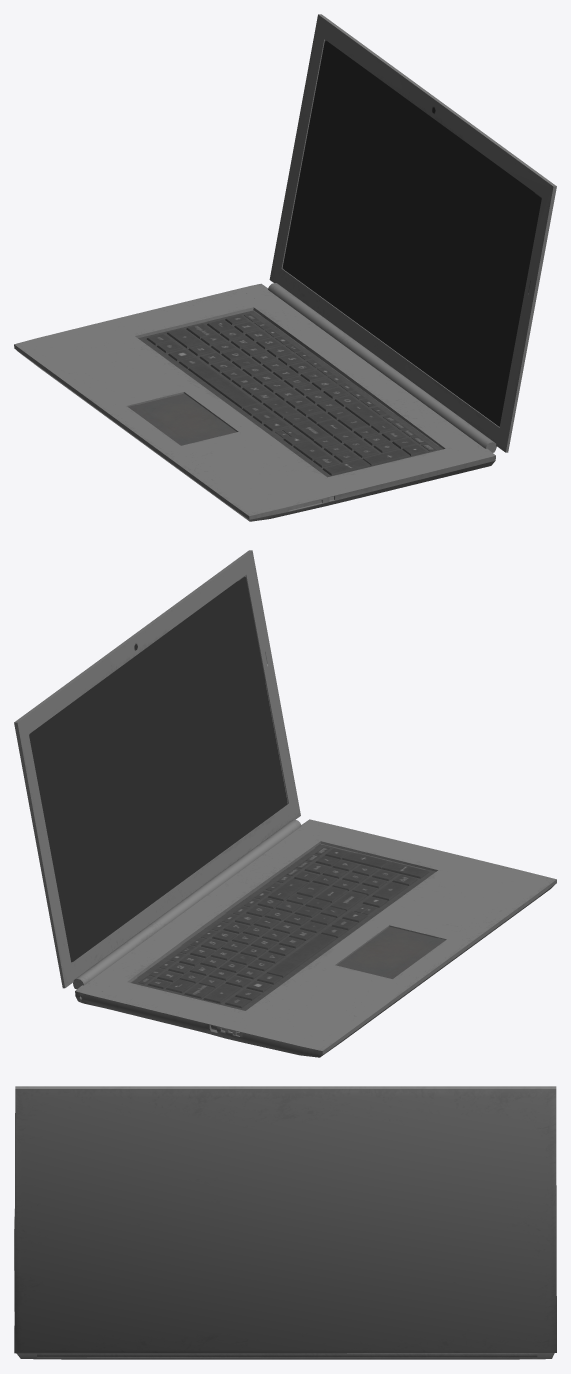
The model's file is SM_Laptop_A1.fbx.
The picture shows the model from 3 angles, top to bottom: view 1: azimuth 30°, elevation 25°; view 2: azimuth 150°, elevation 25°; view 3: azimuth 270°, elevation 25°; orthographic projection. The views are drawn at different scales.
Visible parts, largest first — view 1: SM_Laptop_A1; view 2: SM_Laptop_A1; view 3: SM_Laptop_A1.
Boxes of the visible parts, x1,y1,x2,y2 form: SM_Laptop_A1: [14, 14, 556, 521]; SM_Laptop_A1: [14, 550, 556, 1057]; SM_Laptop_A1: [14, 1086, 556, 1359].
Size of the model in its own units: 34.54 by 45.56 by 28.51.
1 material, 1 textured.
